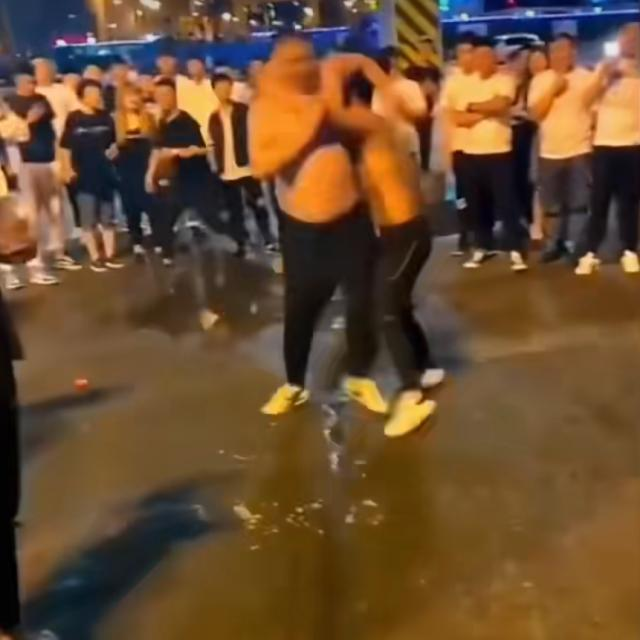fight: (241, 34, 429, 235)
nofight: (585, 7, 640, 284), (526, 34, 594, 258), (456, 47, 517, 268), (136, 76, 212, 252), (71, 90, 122, 268), (12, 62, 58, 236)
